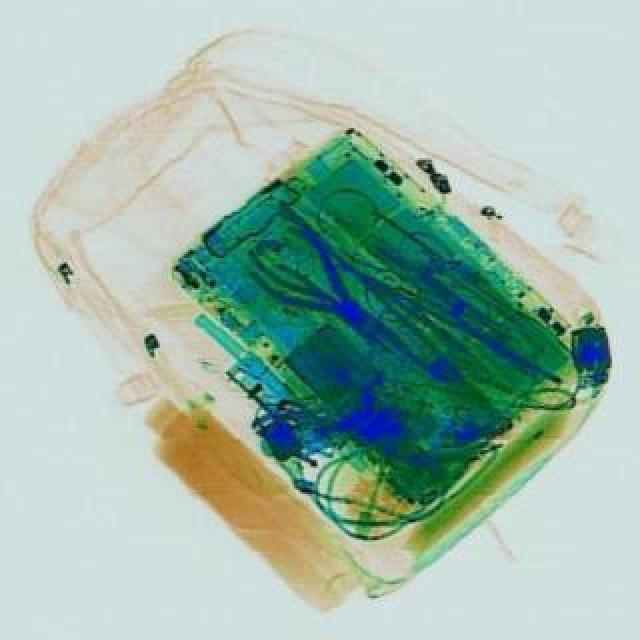wrench: (244, 218, 448, 392), (246, 208, 418, 364)
